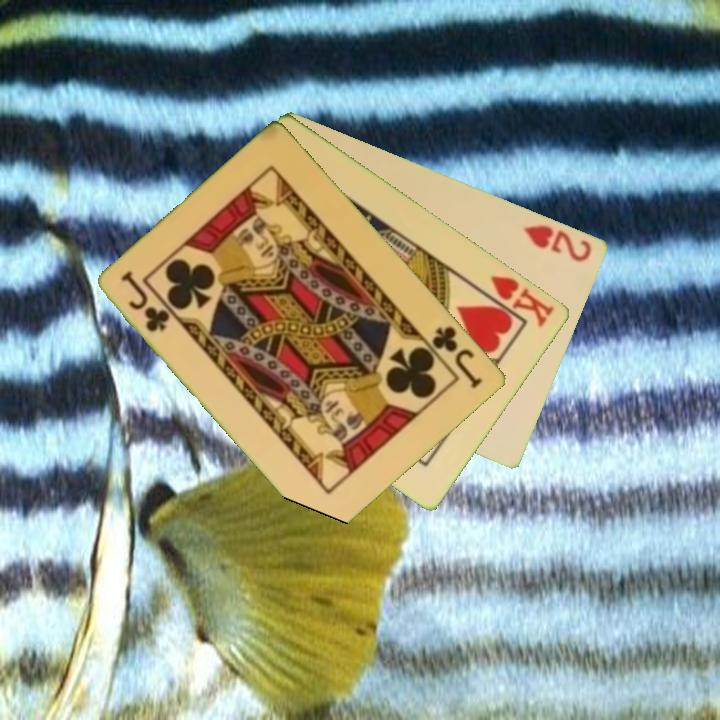2h: (520, 221, 596, 265)
Jc: (428, 322, 487, 392), (118, 267, 174, 335)
Kh: (476, 271, 558, 331)
